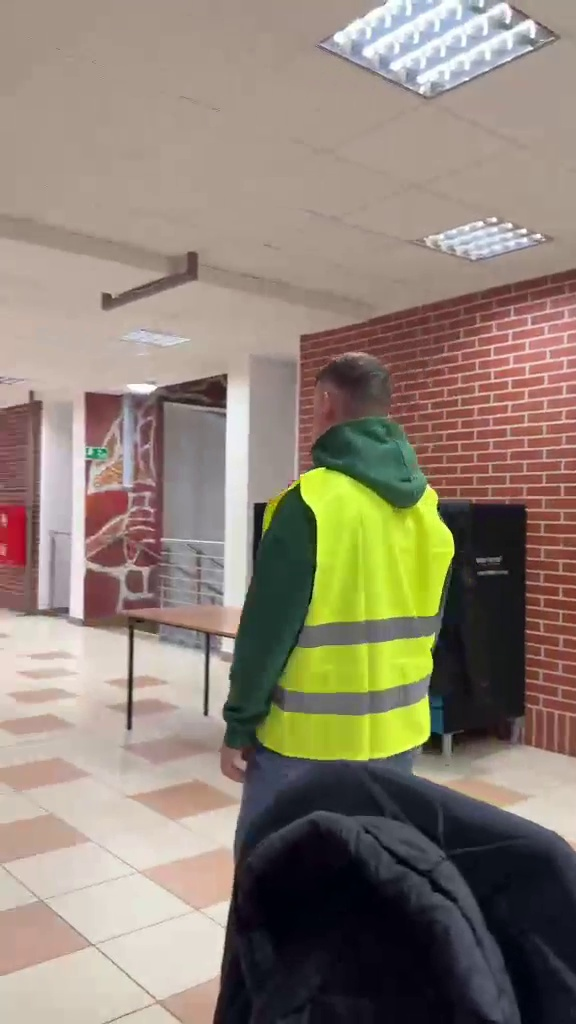vest: (225, 349, 451, 768)
